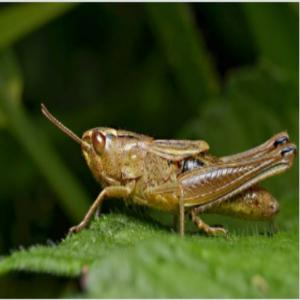locust: (57, 101, 300, 268)
